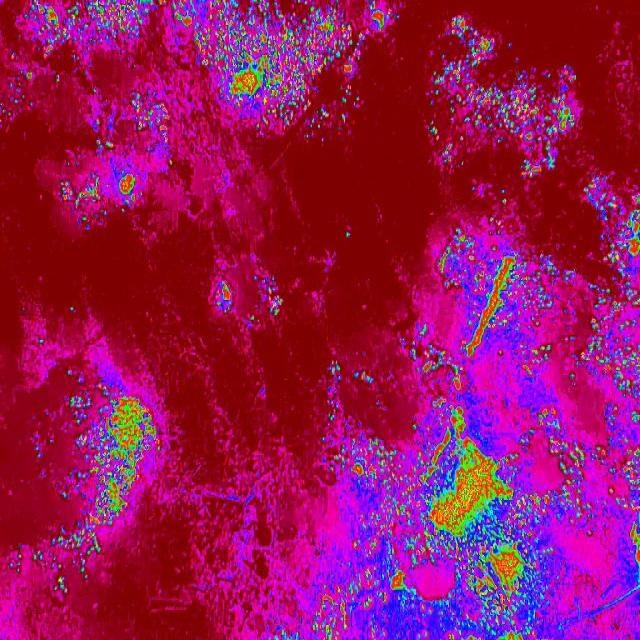fire: (328, 402, 548, 640), (172, 0, 358, 128), (589, 189, 640, 640), (428, 25, 582, 174), (39, 380, 162, 528), (434, 232, 560, 374), (19, 0, 158, 58), (23, 523, 99, 591), (548, 439, 590, 541), (128, 86, 176, 168), (58, 173, 142, 217), (358, 0, 395, 42), (259, 277, 295, 314), (214, 277, 240, 314)
